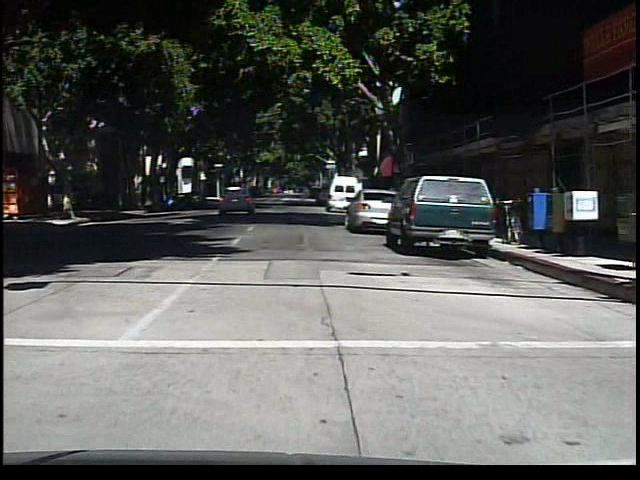person: (57, 178, 74, 220), (294, 179, 313, 206)
